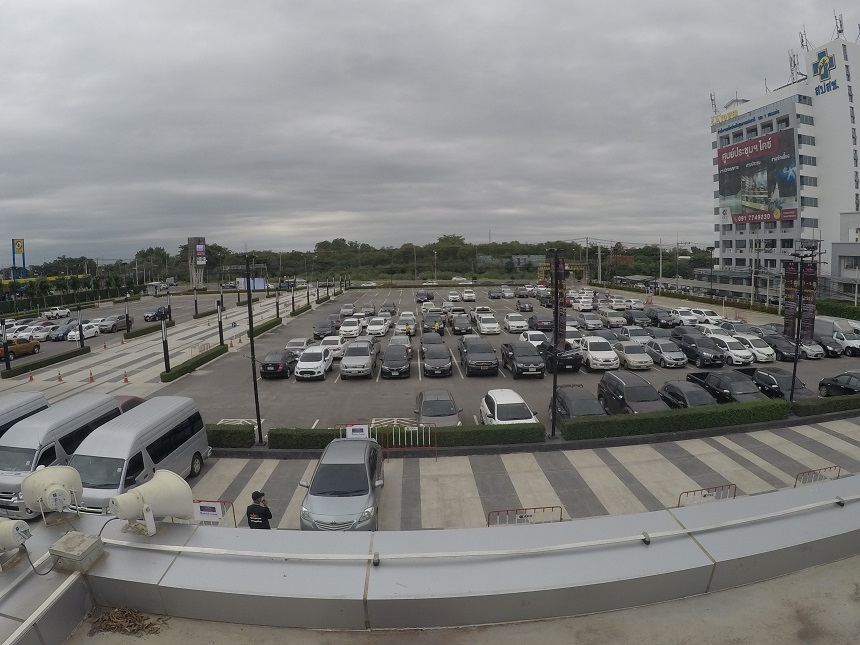busy: (304, 478, 378, 527), (89, 434, 165, 472), (22, 423, 72, 456), (482, 393, 533, 422), (615, 385, 660, 411), (415, 397, 459, 423), (715, 378, 756, 400), (509, 355, 549, 377), (563, 394, 601, 417), (768, 376, 808, 396), (296, 356, 330, 379), (463, 356, 501, 376), (260, 355, 292, 378), (338, 358, 373, 379), (420, 357, 455, 378), (669, 380, 702, 402), (693, 348, 729, 368), (829, 372, 860, 394), (380, 358, 412, 379), (558, 351, 582, 372), (590, 350, 618, 368), (625, 353, 653, 371), (660, 352, 687, 366), (824, 339, 841, 356), (734, 350, 754, 364), (802, 345, 821, 359), (781, 345, 799, 358), (847, 336, 860, 354), (760, 350, 776, 362)
